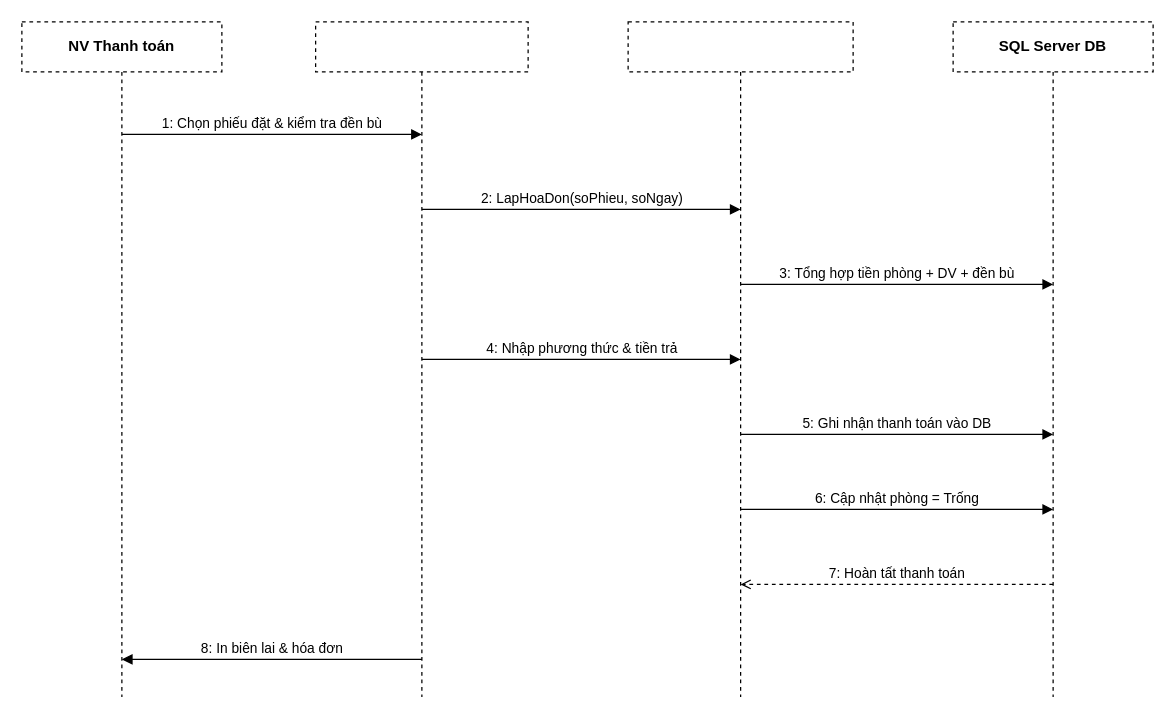
This 1175x719 diagram has some shape labels left out. The box of each missing label's shape, as (x1, y1, x2, y2) in pixels:
FrmTraPhong: (314, 21, 528, 697)
TraPhongService: (627, 21, 853, 697)
